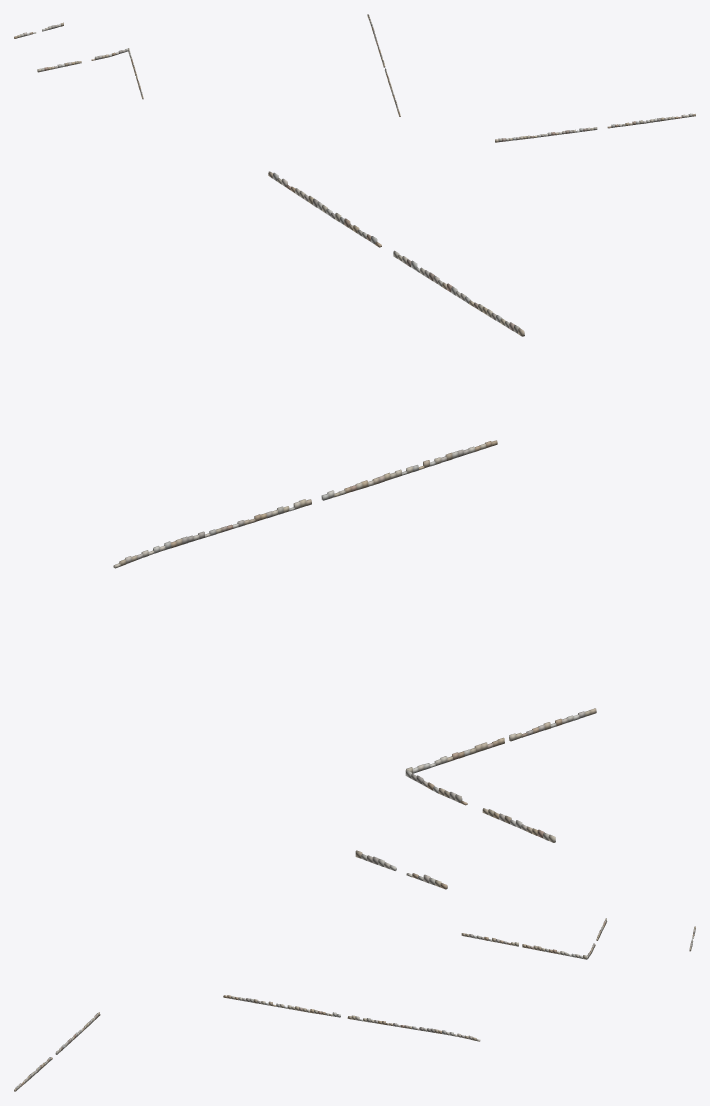
The model's file is farm_17_14_far.glb.
The picture shows the model from 3 angles, top to bottom: view 1: azimuth 30°, elevation 25°; view 2: azimuth 150°, elevation 25°; view 3: azimuth 270°, elevation 25°; orthographic projection. The views are drawn at different scales.
Parts seen in each view (by area): view 1: geometry_0; view 2: geometry_0; view 3: geometry_0.
Part boxes in pixels (x1,y1,x2,y2): geometry_0: (14, 14, 695, 142); geometry_0: (113, 171, 596, 889); geometry_0: (14, 918, 695, 1091).
Size of the model in its own units: 205 by 24.4 by 264.
